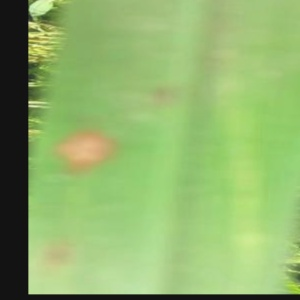Brown_Spot: (48, 114, 124, 199)
